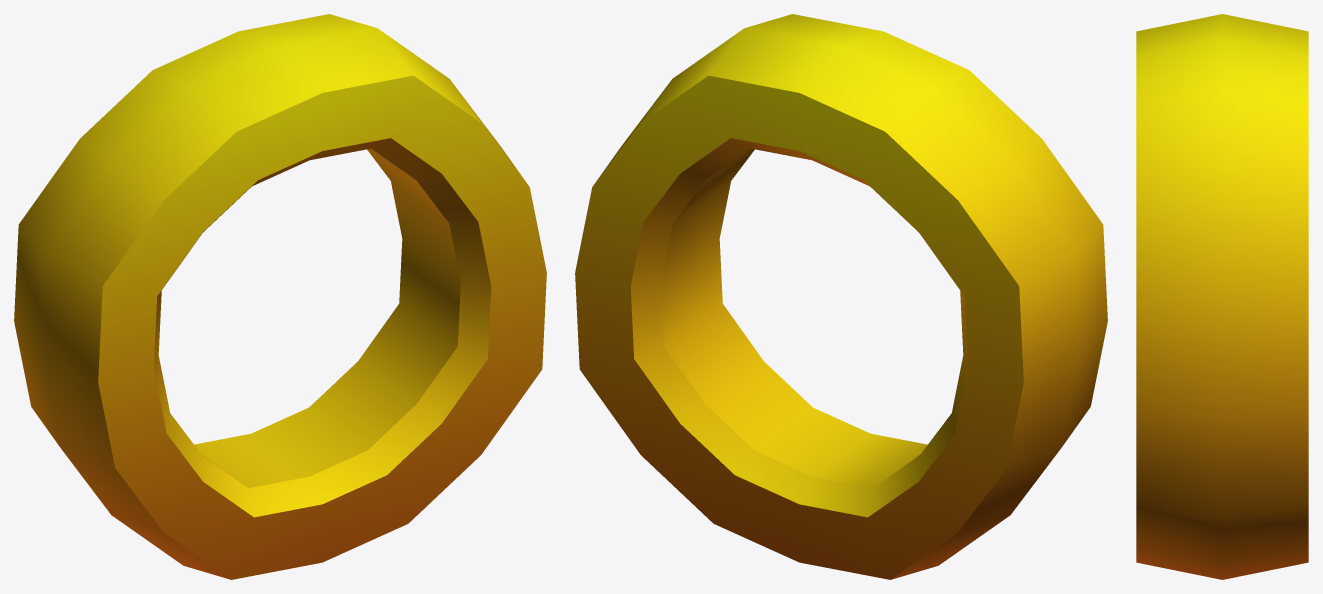
Rendered from Gold_Ring_01.glb.
The picture shows the model from 3 angles, left to right: view 1: azimuth 30°, elevation 25°; view 2: azimuth 150°, elevation 25°; view 3: azimuth 270°, elevation 25°; orthographic projection. The views are drawn at different scales.
Visible parts, largest first — view 1: Gold_Ring_01; view 2: Gold_Ring_01; view 3: Gold_Ring_01.
Part boxes in pixels (bbox=[...]): Gold_Ring_01: bbox=[14, 14, 546, 579]; Gold_Ring_01: bbox=[575, 14, 1107, 579]; Gold_Ring_01: bbox=[1136, 14, 1308, 579].
Bounding box in the file's own units: 0.4853 × 0.4853 × 0.1478.
1 material, 1 textured.
